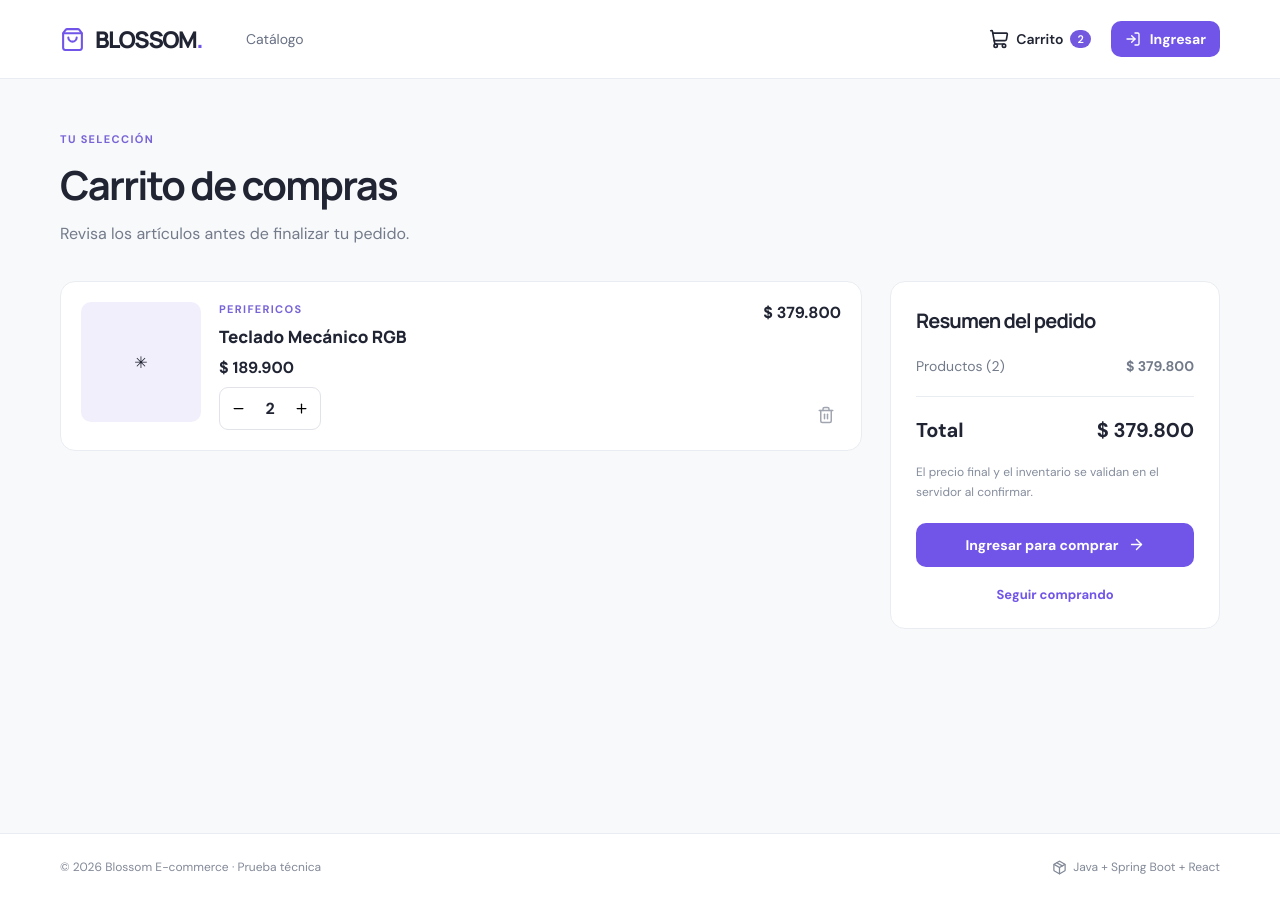
Test: Detalle, carrito y checkout › limita cantidades según stock y permite eliminar artículos
The image size is (1280, 900).
Click the button named "Sumar". click: (302, 409)
box: x1=283 y1=388 x2=320 y2=429
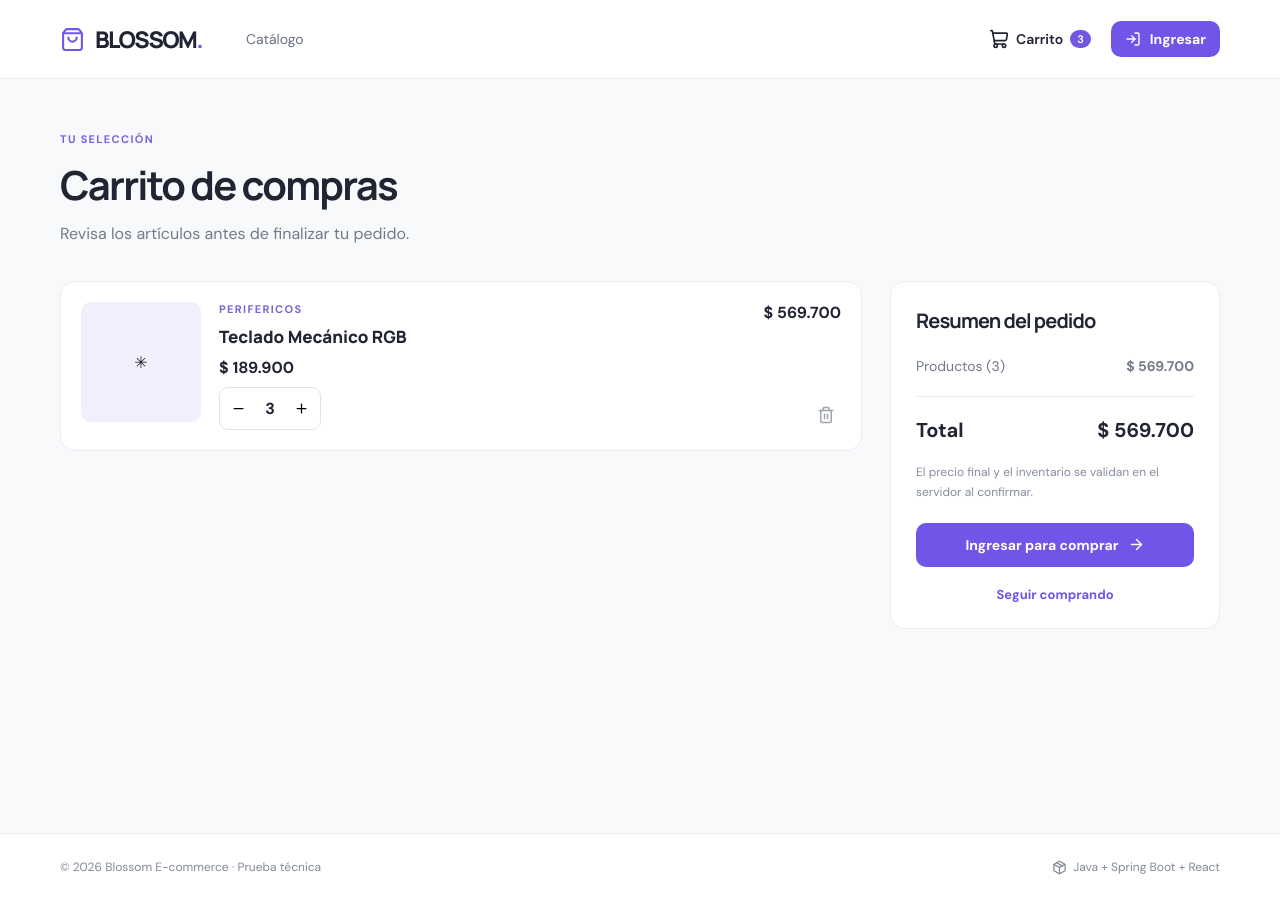
Click the button named "Quitar producto". click: (826, 418)
box: x1=811 y1=405 x2=841 y2=430
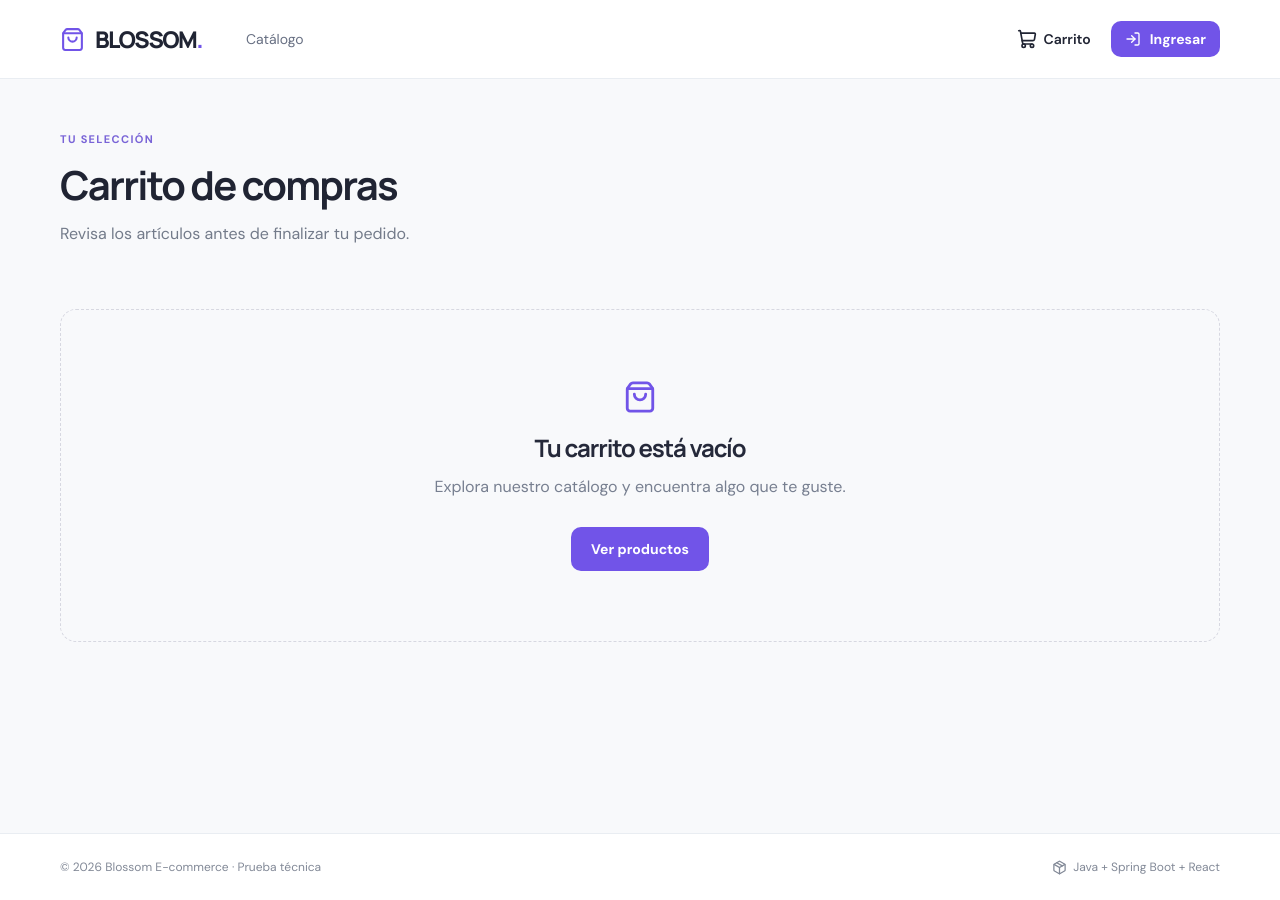
Result: the heading "Tu carrito está vacío" is shown at x1=534 y1=431 x2=746 y2=464
